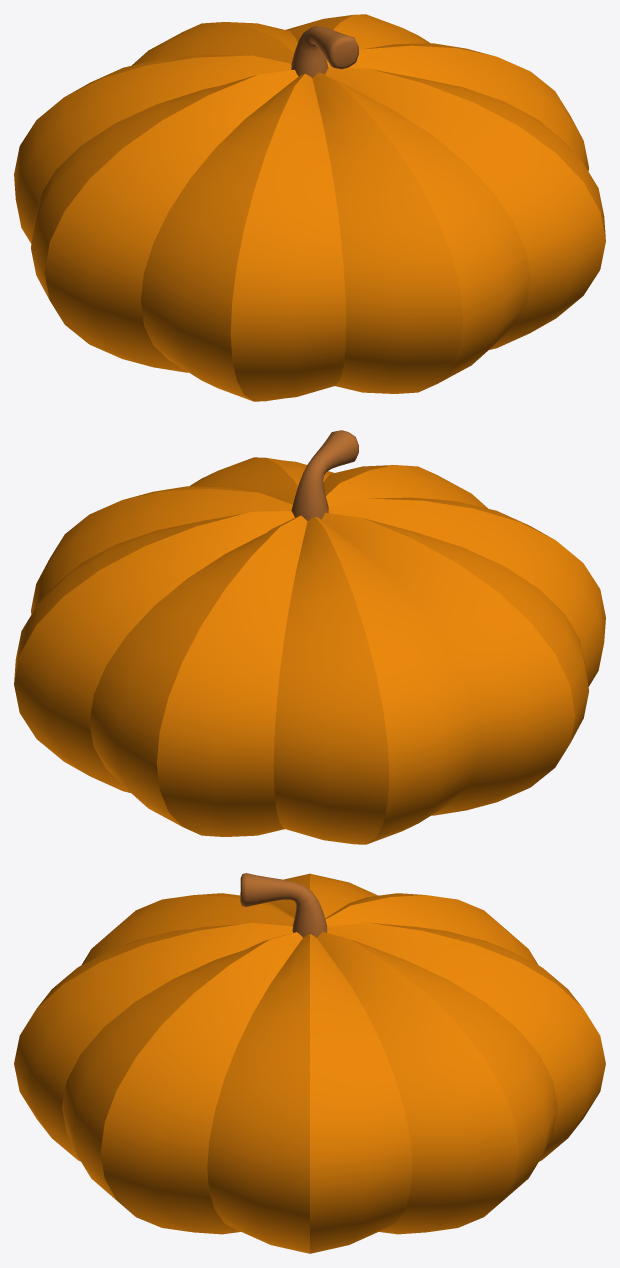
The model's file is pumpkin.fbx.
The picture shows the model from 3 angles, top to bottom: view 1: azimuth 30°, elevation 25°; view 2: azimuth 150°, elevation 25°; view 3: azimuth 270°, elevation 25°; orthographic projection. The views are drawn at different scales.
Visible parts, largest first — view 1: Sphere.001, Cube.059; view 2: Sphere.001, Cube.059; view 3: Sphere.001, Cube.059.
Part boxes in pixels (<box>): Sphere.001: <box>14,14,605,401</box>; Cube.059: <box>291,26,358,77</box>; Sphere.001: <box>14,457,605,844</box>; Cube.059: <box>291,430,358,520</box>; Sphere.001: <box>14,873,605,1253</box>; Cube.059: <box>240,873,327,937</box>.
Size of the model in its own units: 170 by 104 by 170.
